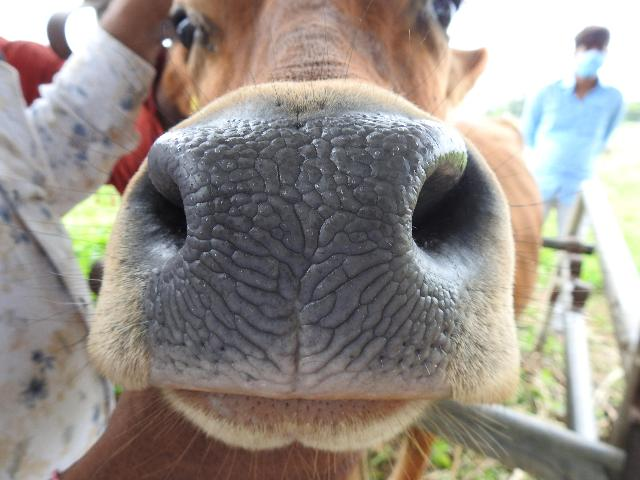Muzzle: (188, 126, 424, 380)
